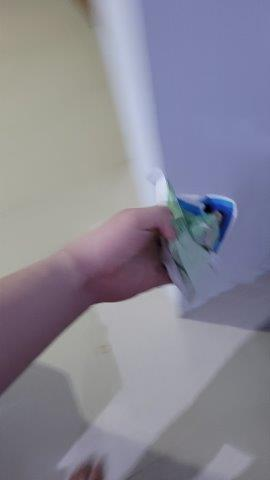kertas: (147, 172, 239, 299)
